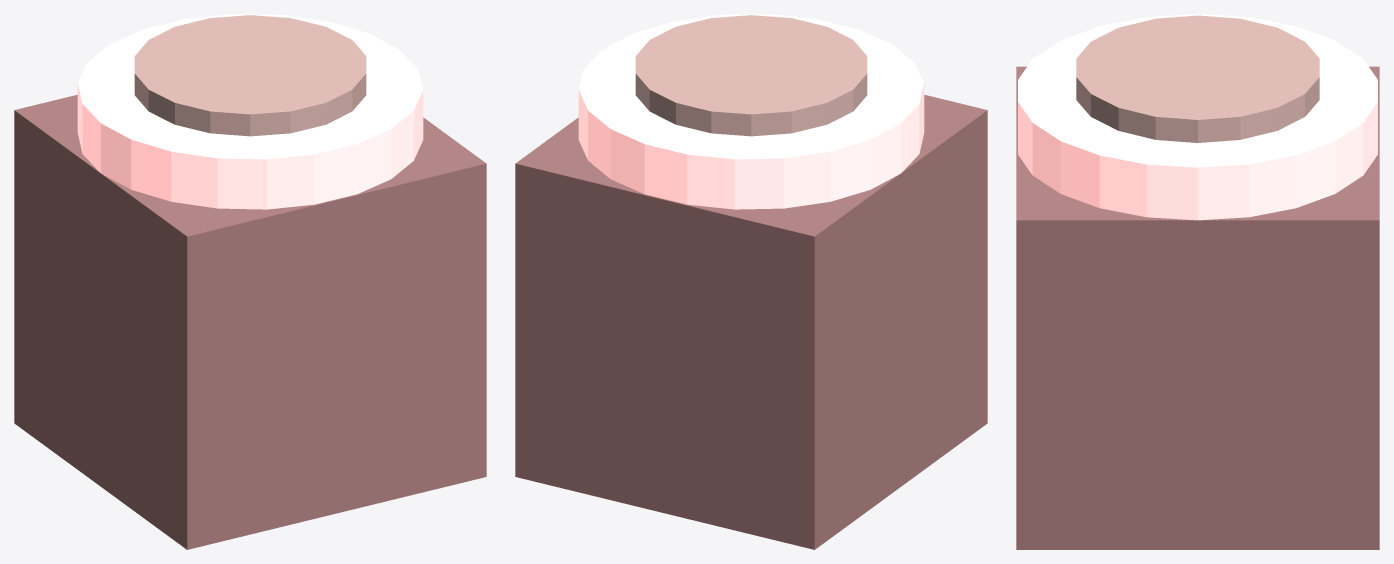
File: Bounce_Full.glb
The picture shows the model from 3 angles, left to right: view 1: azimuth 30°, elevation 25°; view 2: azimuth 150°, elevation 25°; view 3: azimuth 270°, elevation 25°; orthographic projection. The views are drawn at different scales.
Visible parts, largest first — view 1: Bounce_Full_body, bounce_base, bounce_fill_ring; view 2: Bounce_Full_body, bounce_base, bounce_fill_ring; view 3: Bounce_Full_body, bounce_base, bounce_fill_ring.
Boxes of the visible parts, x1,y1,x2,y2 form: Bounce_Full_body: (14, 94, 486, 549); bounce_base: (77, 14, 423, 209); bounce_fill_ring: (134, 15, 366, 136); Bounce_Full_body: (515, 94, 987, 549); bounce_base: (578, 14, 924, 209); bounce_fill_ring: (635, 15, 867, 136); Bounce_Full_body: (1016, 66, 1379, 549); bounce_base: (1018, 14, 1377, 220); bounce_fill_ring: (1076, 15, 1319, 142).
Size of the model in its own units: 1 by 1.23 by 1.
